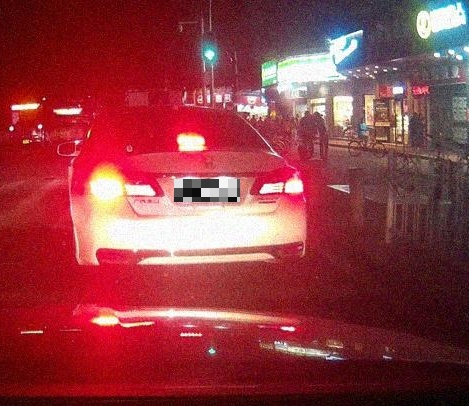L_light: (87, 174, 166, 198)
R_light: (249, 174, 303, 195)
T_light: (176, 135, 205, 147)
night-left: (73, 104, 307, 279)
plate_1: (174, 179, 240, 202)
